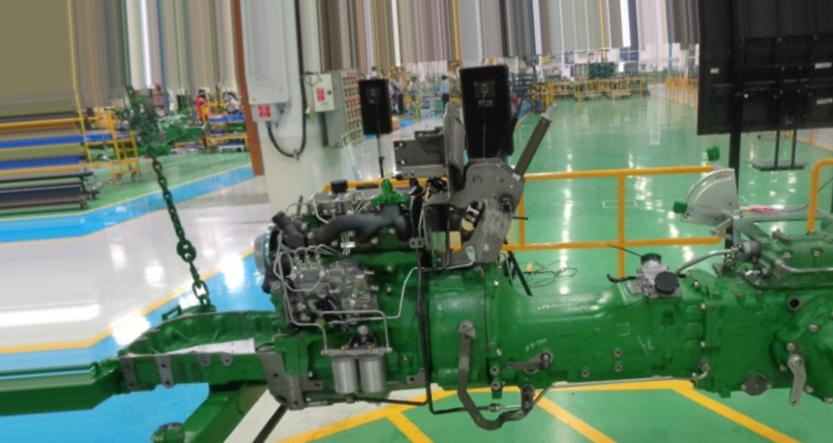engine: (122, 65, 833, 443)
